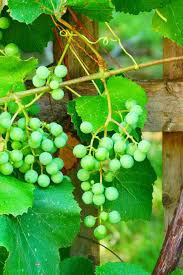grapes: (84, 109, 149, 233), (12, 109, 74, 190), (37, 64, 69, 97)
